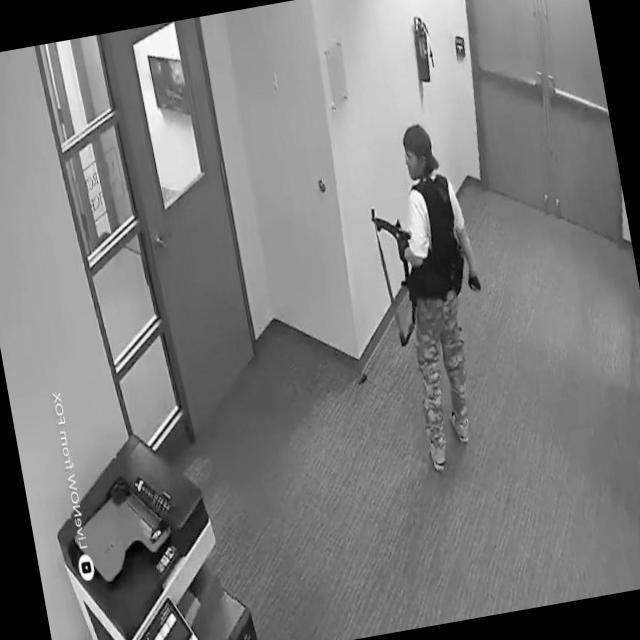gun: (364, 198, 418, 283)
person with a gun: (353, 110, 516, 480)
